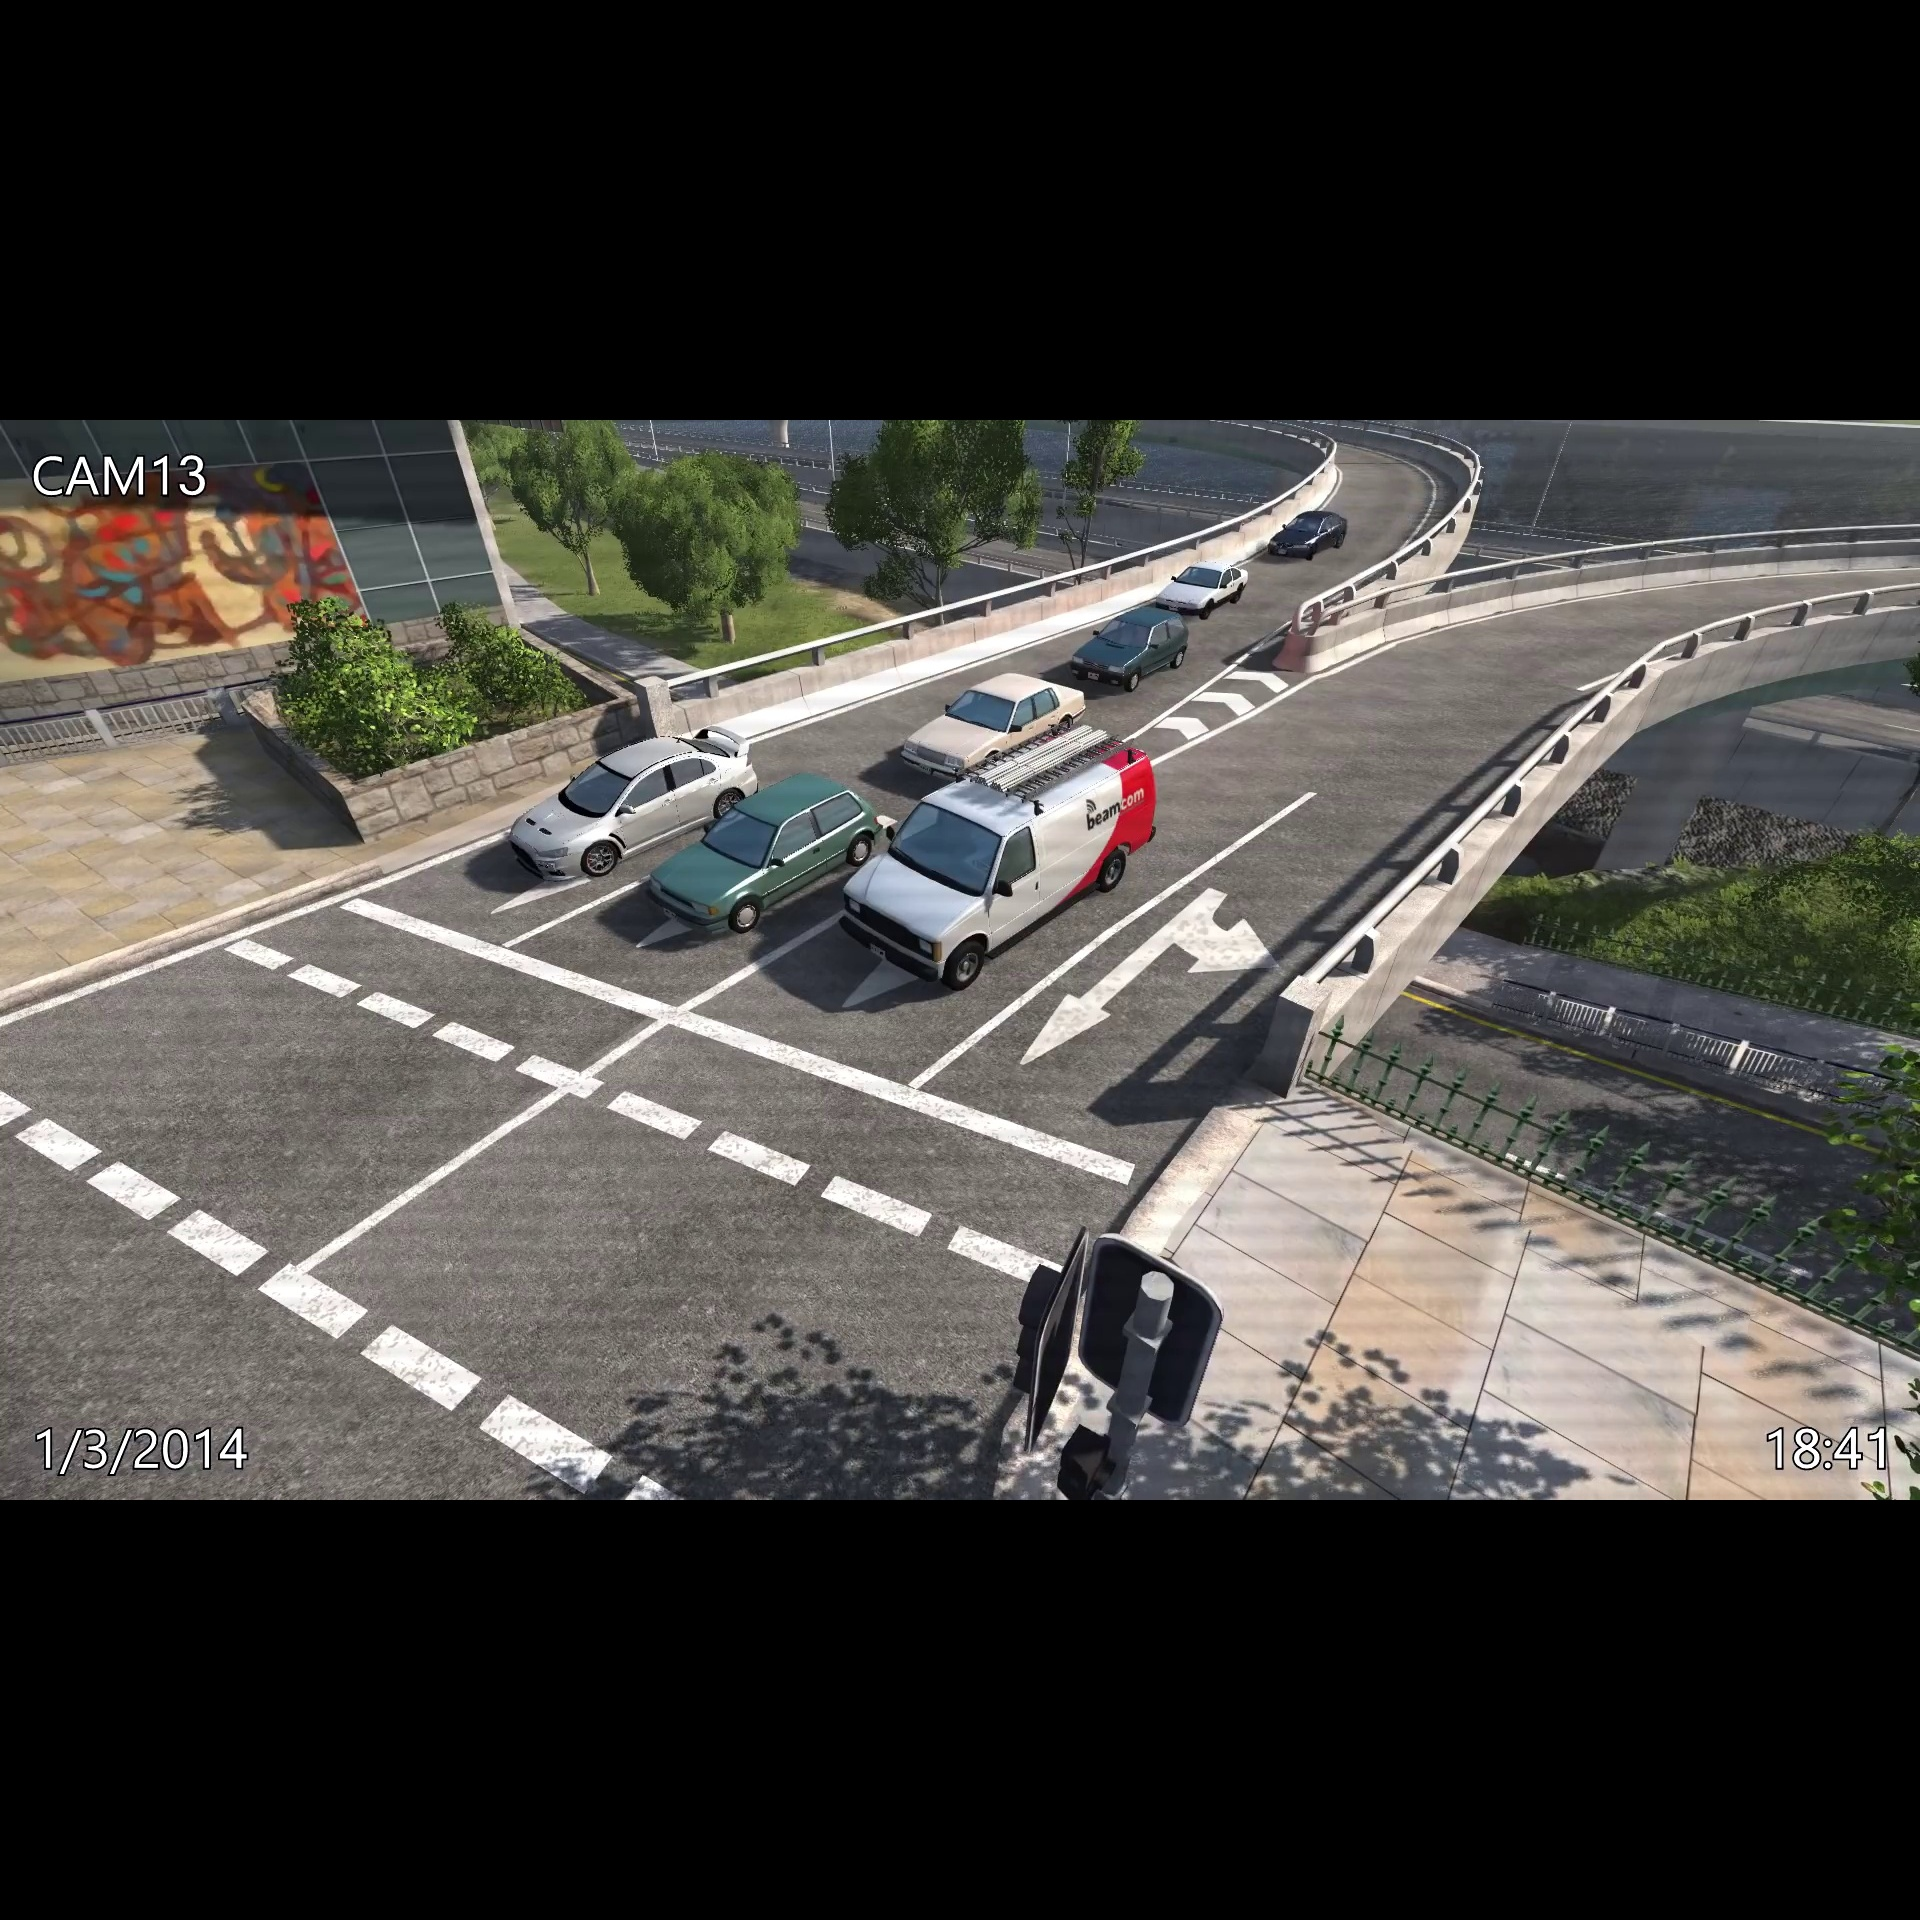vehicle: (833, 717, 1166, 993), (499, 721, 763, 886), (642, 768, 890, 941), (895, 665, 1095, 795), (1065, 596, 1192, 703), (1148, 556, 1257, 624), (1261, 503, 1350, 566)
